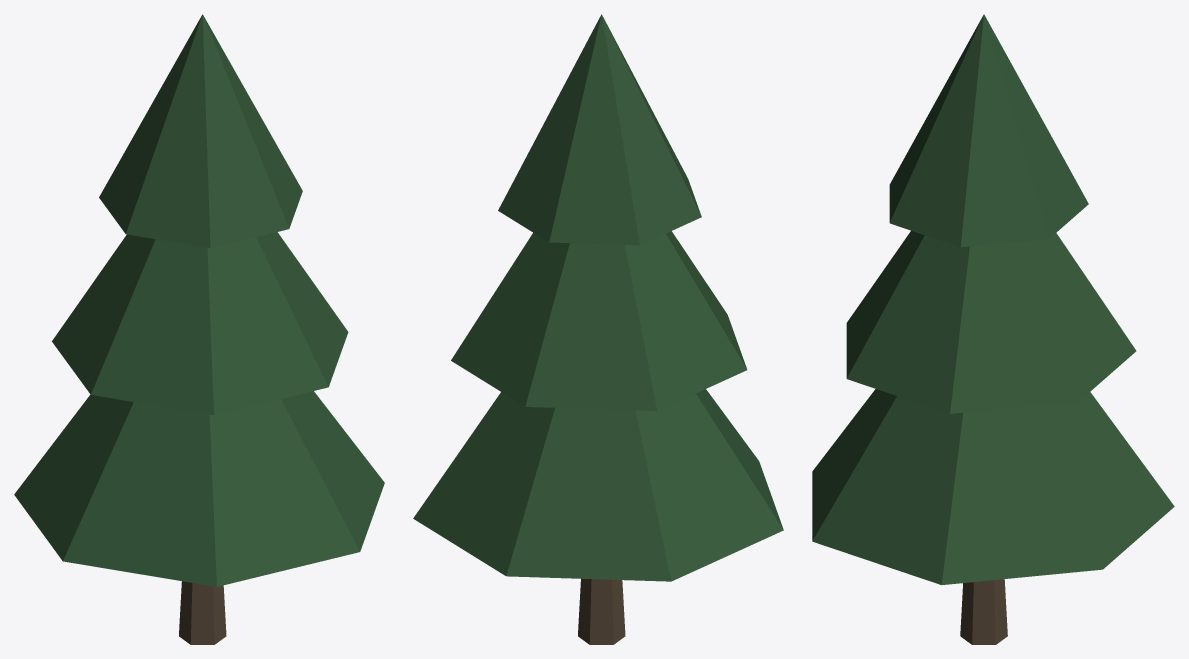
The model's file is tree_pine.glb.
3 views of the same model, side by side, from view 1: azimuth 30°, elevation 25°; view 2: azimuth 150°, elevation 25°; view 3: azimuth 270°, elevation 25° (orthographic).
Visible parts, largest first — view 1: Body; view 2: Body; view 3: Body.
Boxes of the visible parts, box(x1,y1,x2,y2) form: Body: box(14, 14, 384, 644); Body: box(413, 14, 783, 644); Body: box(812, 14, 1174, 644).
Bounding box in the file's own units: 3.9 × 7.2 × 3.8.
